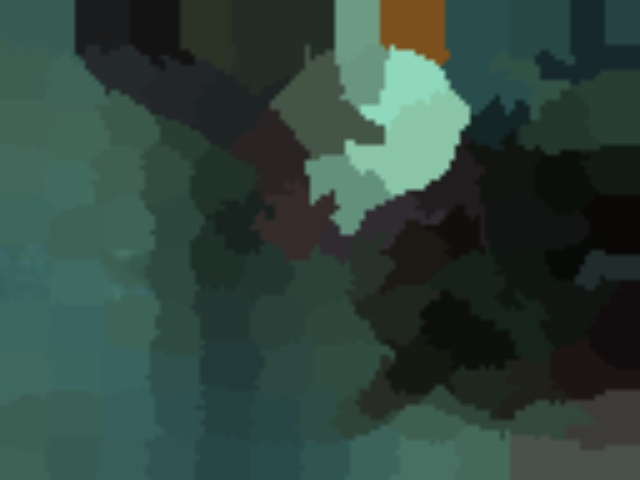one: (412, 72, 467, 114)
